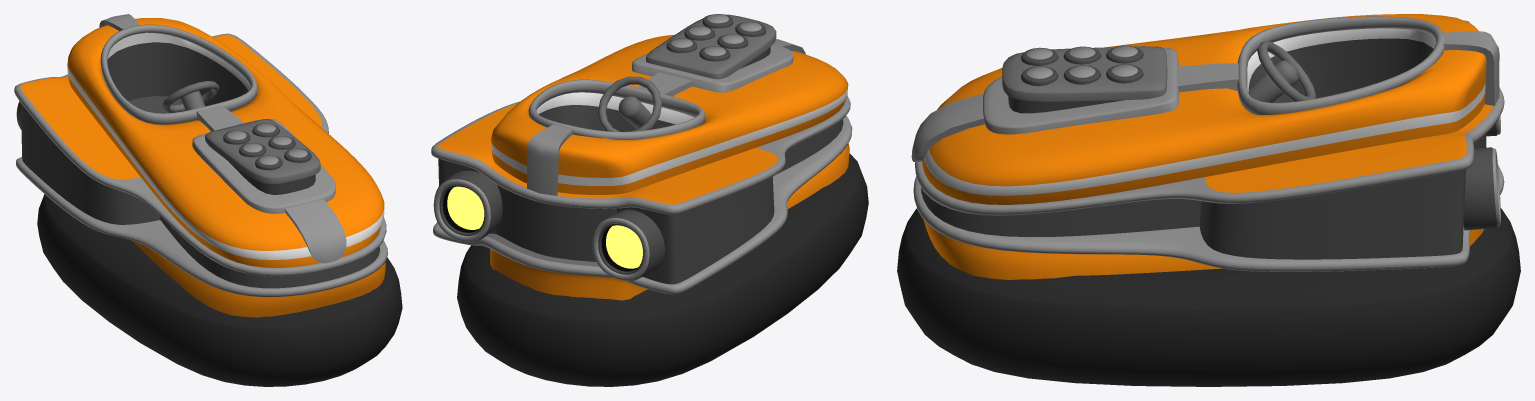
File: mesh_Car_Menu_P.fbx
3 renders of one model, left to right at view 1: azimuth 30°, elevation 25°; view 2: azimuth 150°, elevation 25°; view 3: azimuth 270°, elevation 25°, orthographic. The views are drawn at different scales.
Parts seen in each view (by area): view 1: mesh_Car_Menu_P; view 2: mesh_Car_Menu_P; view 3: mesh_Car_Menu_P.
Boxes of the visible parts, bbox=[...] form: mesh_Car_Menu_P: bbox=[14, 14, 402, 386]; mesh_Car_Menu_P: bbox=[431, 14, 868, 386]; mesh_Car_Menu_P: bbox=[897, 14, 1520, 386].
Size of the model in its own units: 1.79 by 1.54 by 2.97.
